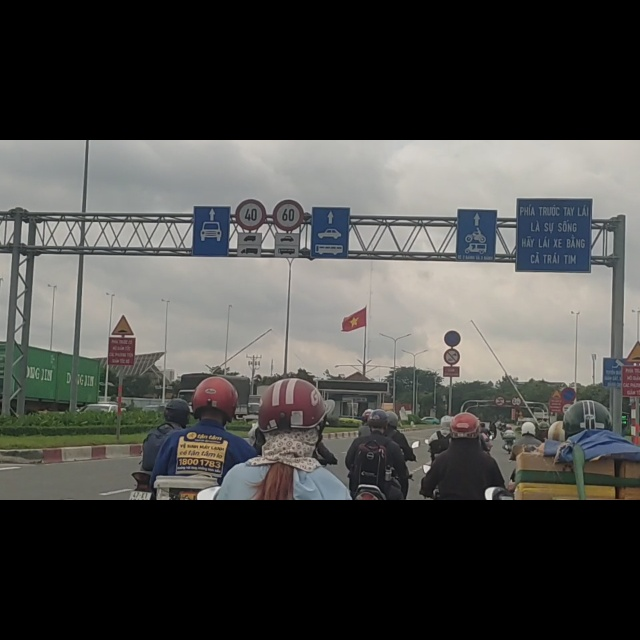bien_nguy_hiem: (235, 104, 267, 162), (273, 107, 304, 161), (603, 386, 625, 440), (112, 309, 135, 348), (627, 358, 640, 397), (445, 338, 461, 369), (444, 371, 460, 401), (562, 440, 576, 465), (494, 454, 505, 474), (511, 455, 521, 474), (551, 441, 561, 460)
